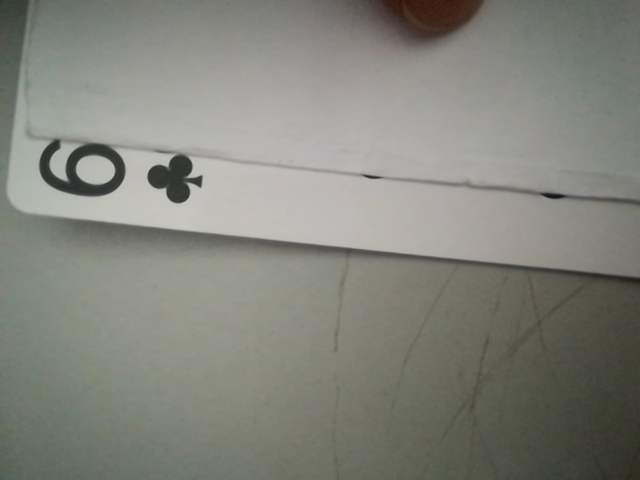mh 6: (19, 133, 208, 217)
